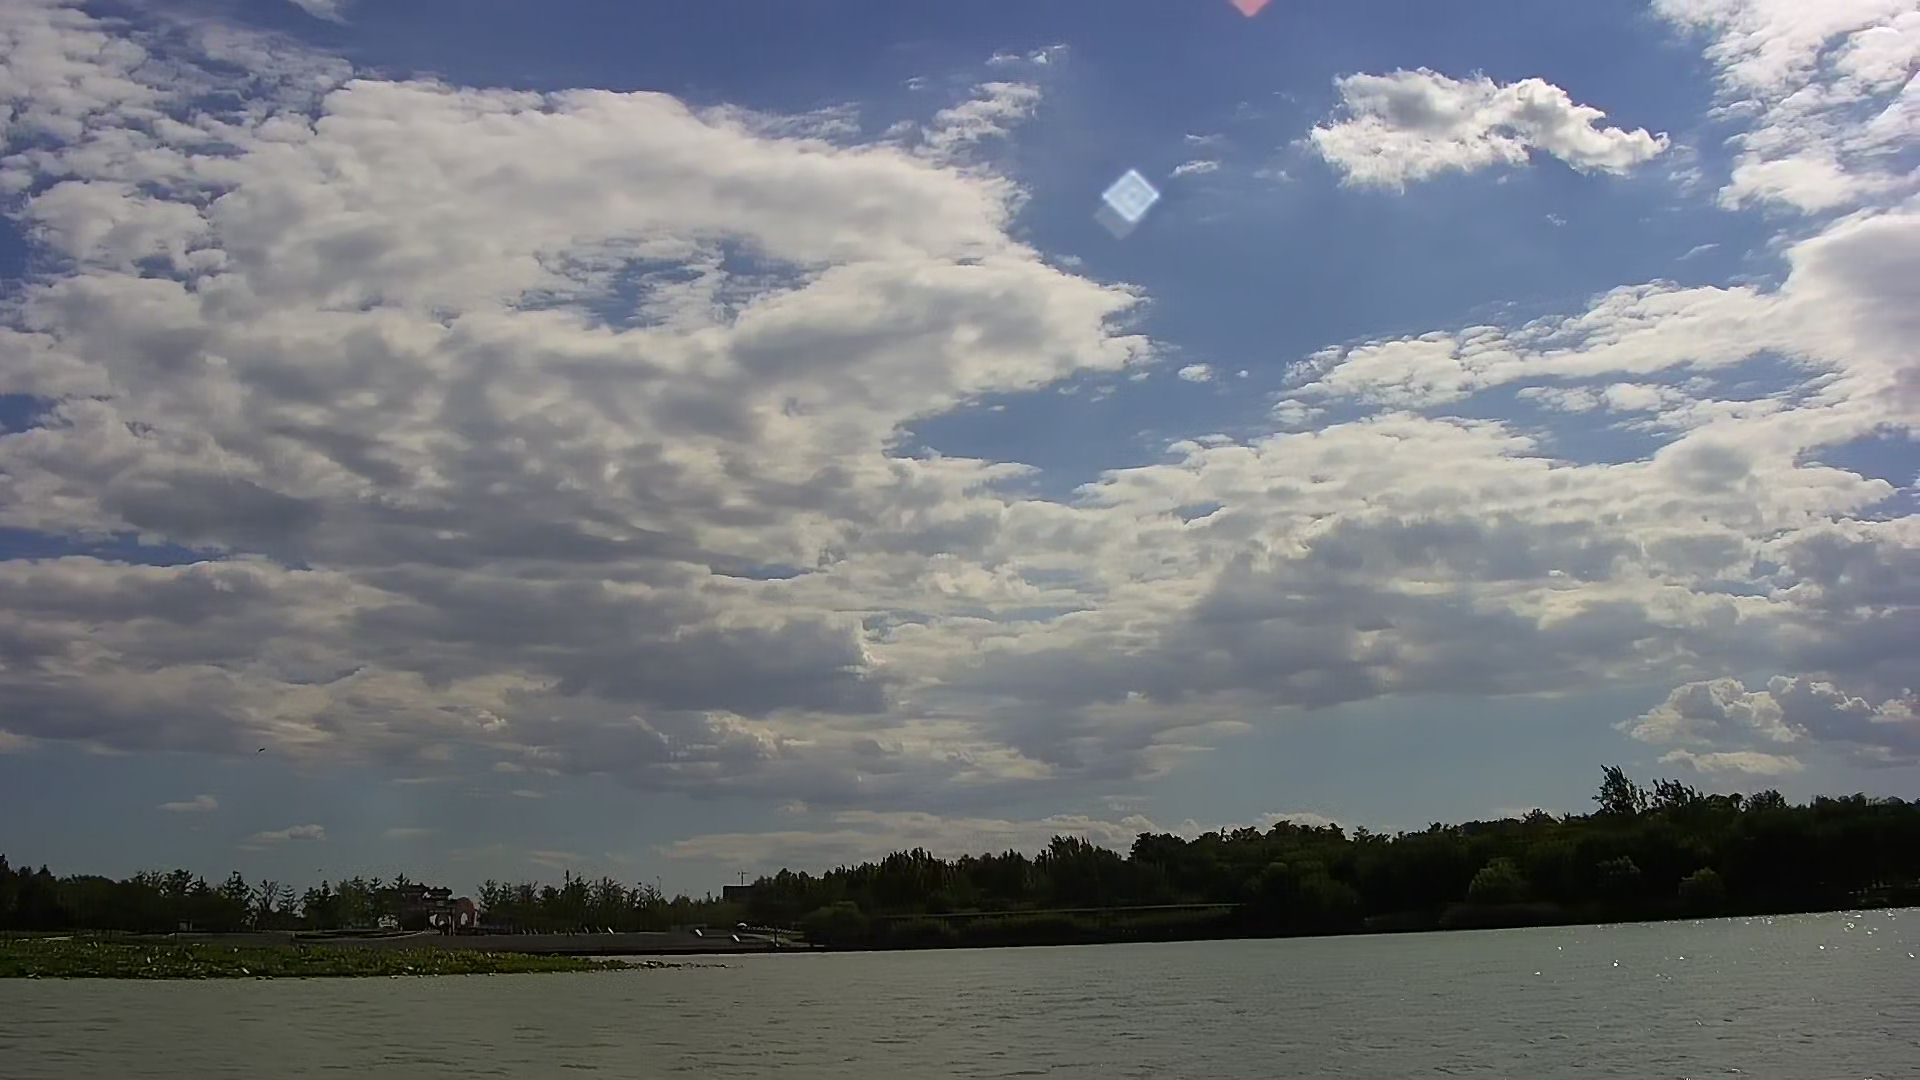harbor: (442, 922, 814, 953)
